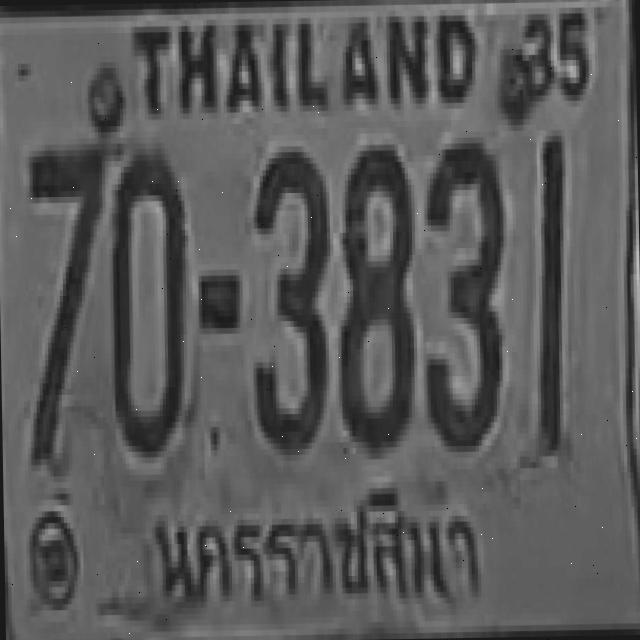0: (107, 145, 185, 449)
1: (532, 133, 566, 447)
3: (419, 134, 504, 444), (248, 142, 328, 446)
7: (23, 140, 108, 462)
8: (334, 138, 412, 448)
NakhonRatchasima: (136, 470, 497, 630)
